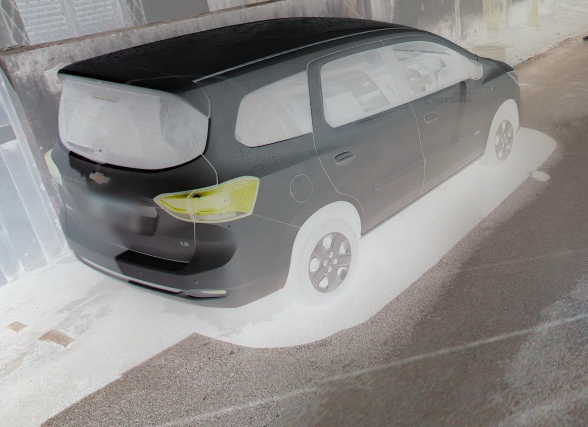car: (39, 14, 524, 318)
